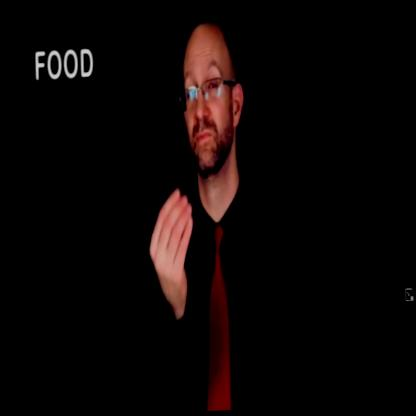Food: (137, 14, 272, 413)
